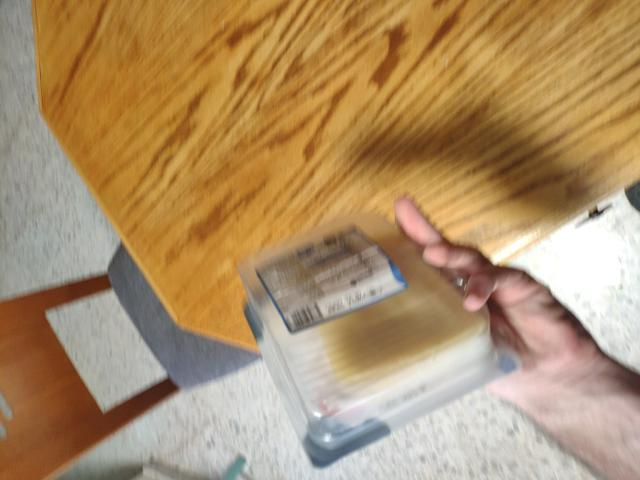cheese: (234, 251, 519, 446)
